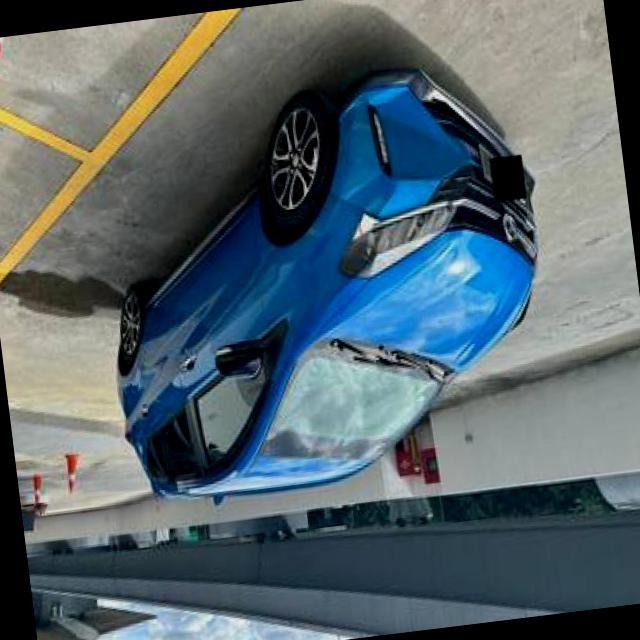PeroduaMyvi: (79, 52, 571, 520)
